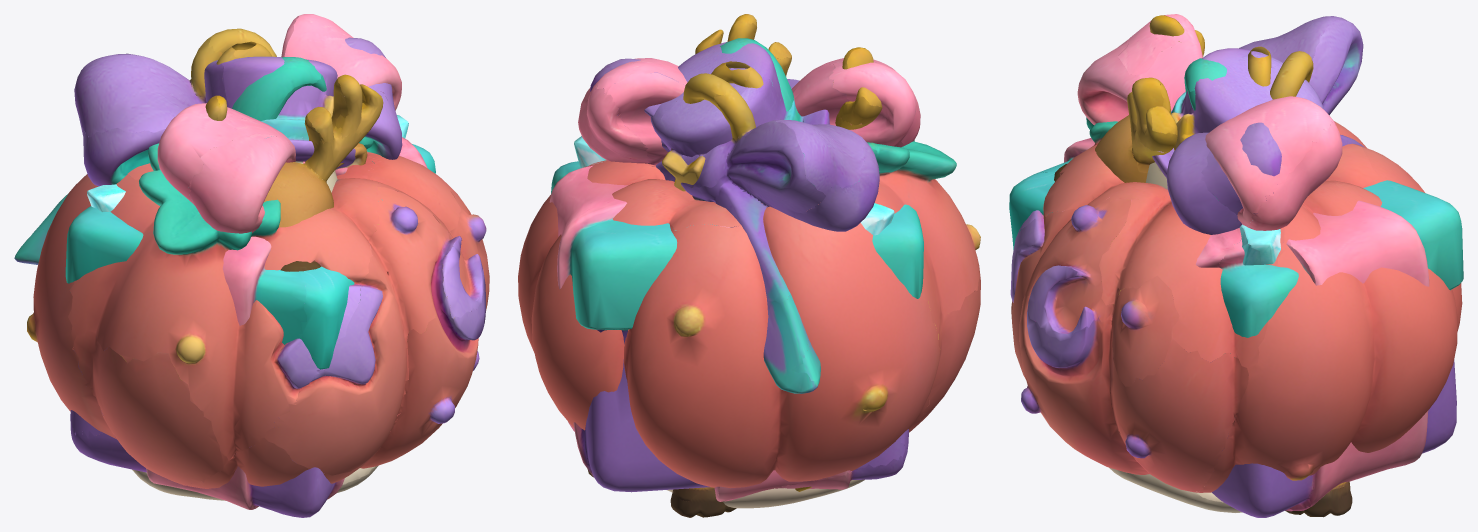
The model's file is store_items_sheet_11_mobile.glb.
3 views of the same model, side by side, from view 1: azimuth 30°, elevation 25°; view 2: azimuth 150°, elevation 25°; view 3: azimuth 270°, elevation 25° (orthographic).
Visible parts, largest first — view 1: hall_pump, xmas_gift, xmas_bell, xmas_deer, xmas_snow, xmas_flake; view 2: hall_pump, xmas_gift, xmas_bell, xmas_snow, xmas_deer, xmas_flake; view 3: hall_pump, xmas_gift, xmas_bell, xmas_snow, xmas_deer, xmas_flake.
Boxes of the visible parts, x1=… form: hall_pump: x1=27, y1=57, x2=489, y2=488; xmas_gift: x1=65, y1=14, x2=454, y2=517; xmas_bell: x1=14, y1=28, x2=402, y2=380; xmas_deer: x1=205, y1=74, x2=383, y2=271; xmas_snow: x1=132, y1=56, x2=378, y2=500; xmas_flake: x1=87, y1=41, x2=408, y2=211; hall_pump: x1=518, y1=38, x2=980, y2=488; xmas_gift: x1=549, y1=58, x2=923, y2=501; xmas_bell: x1=590, y1=58, x2=938, y2=491; xmas_snow: x1=650, y1=42, x2=864, y2=508; xmas_deer: x1=587, y1=14, x2=882, y2=517; xmas_flake: x1=574, y1=61, x2=894, y2=235; hall_pump: x1=1010, y1=58, x2=1462, y2=492; xmas_gift: x1=1009, y1=14, x2=1463, y2=517; xmas_bell: x1=1166, y1=16, x2=1364, y2=234; xmas_snow: x1=1109, y1=48, x2=1323, y2=512; xmas_deer: x1=1054, y1=15, x2=1352, y2=517; xmas_flake: x1=1239, y1=46, x2=1280, y2=265.
Size of the model in its own units: 1.54 by 1.55 by 1.55.
1 material, 1 textured.
